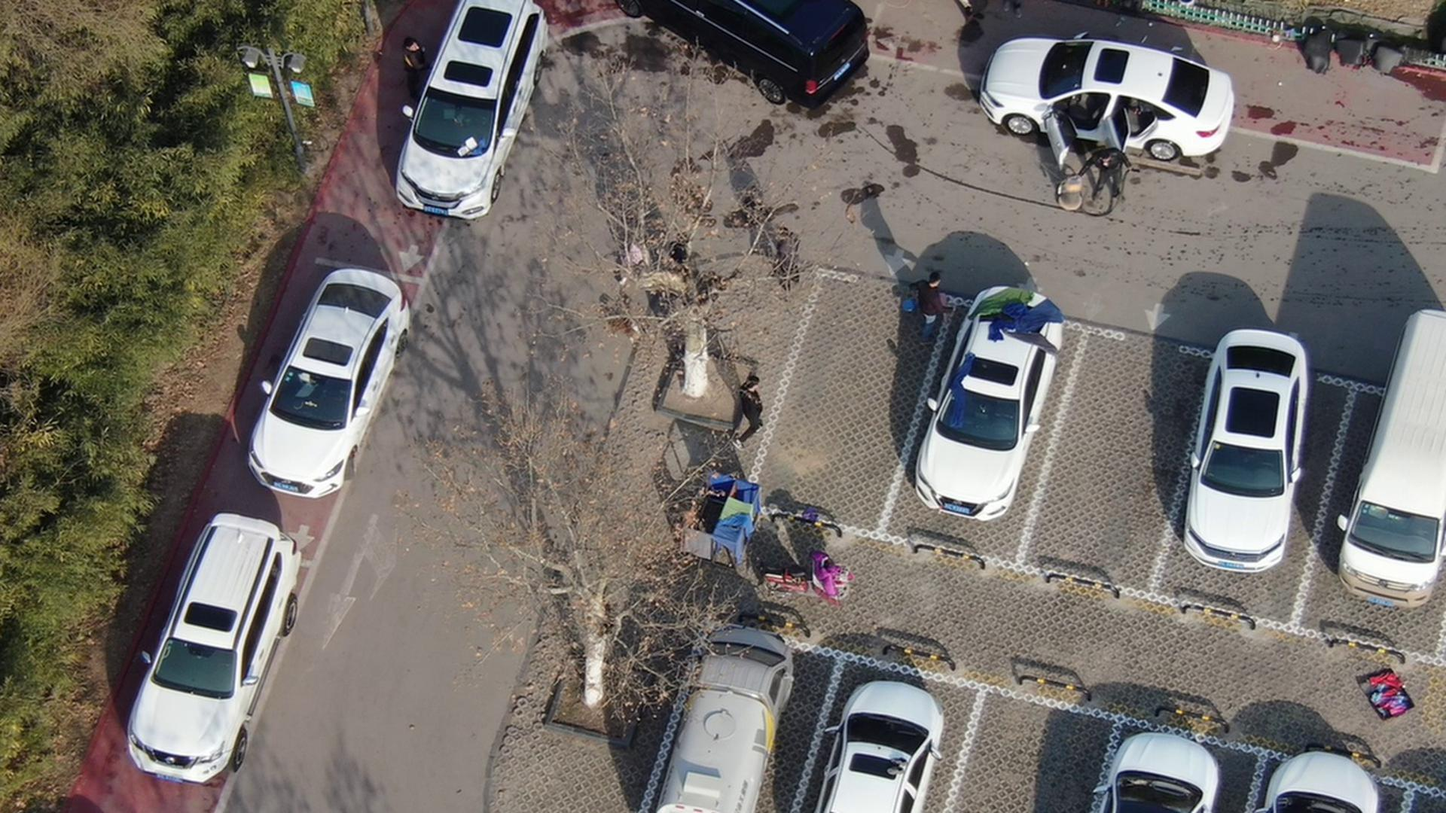human: (749, 302, 788, 394), (916, 268, 964, 342), (1093, 141, 1146, 202), (781, 221, 815, 298), (409, 29, 441, 98)
